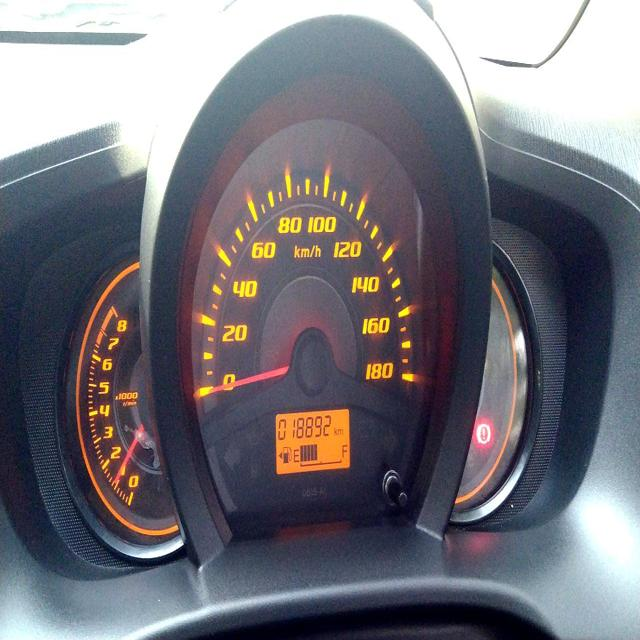odometer: (275, 412, 333, 444)
